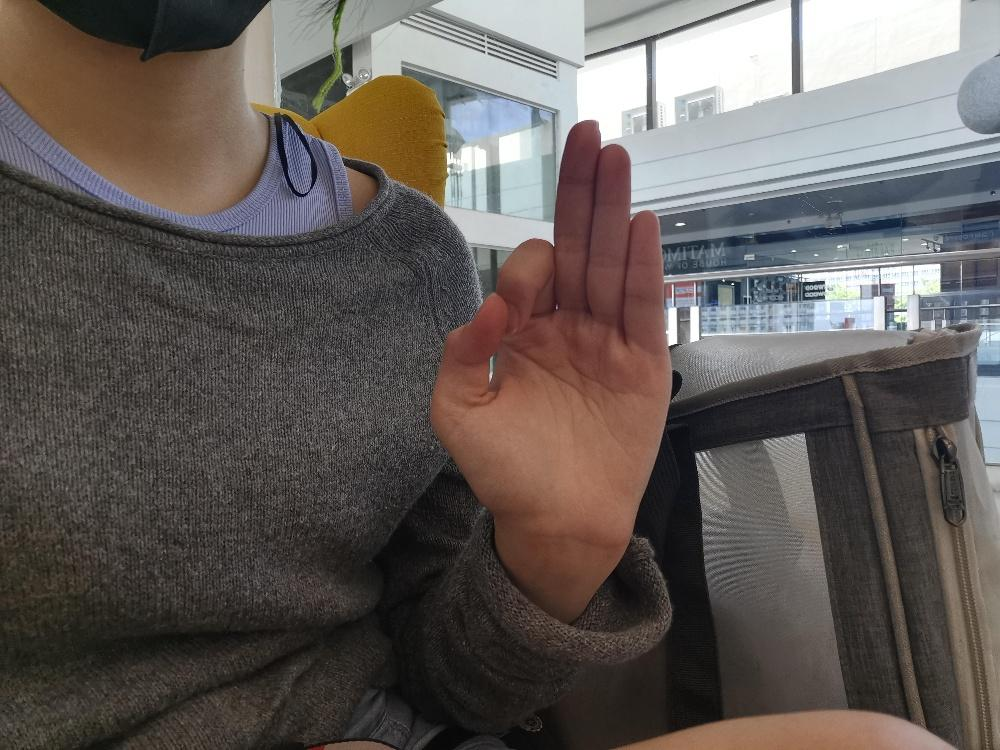f: (425, 115, 673, 546)
